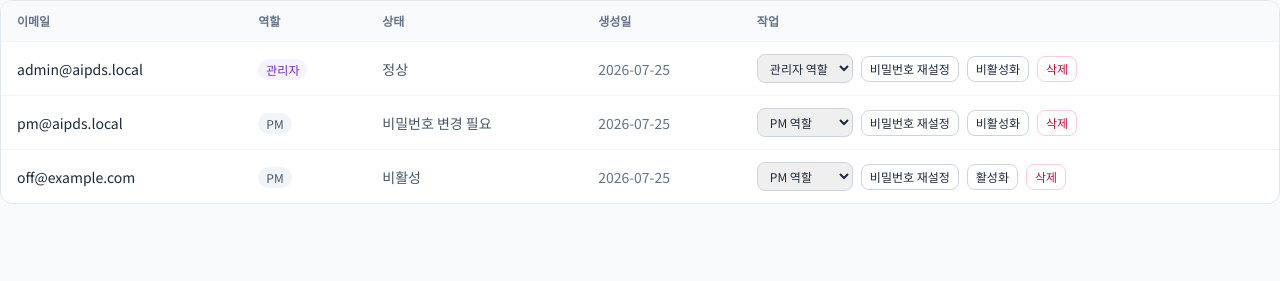
Test: UserTable › surfaces the server's refusal to demote the last admin
Select "PM 역할" in the dropdown named "역할 변경" in the row of "admin@aipds.local": (805, 68) left=757, top=54, right=853, bottom=83
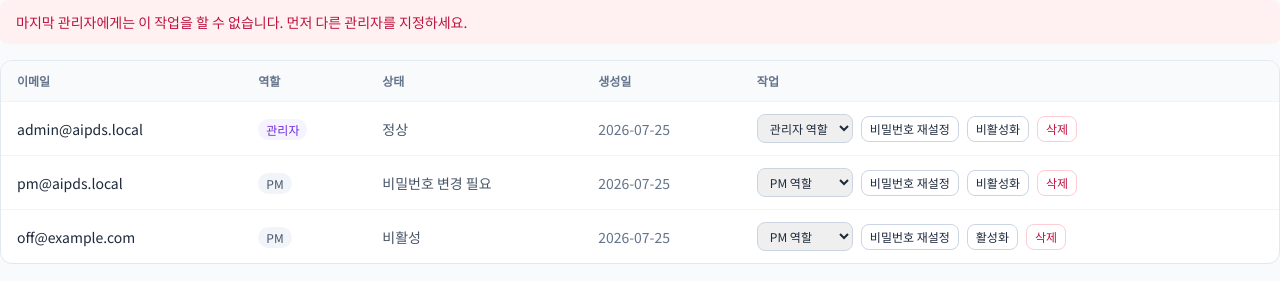
Check: the text "마지막 관리자에게는 이 작업을 할 수 없습니다. 먼저 다른 관리자를 지정하세요." is shown, box left=0, top=0, right=1279, bottom=44
